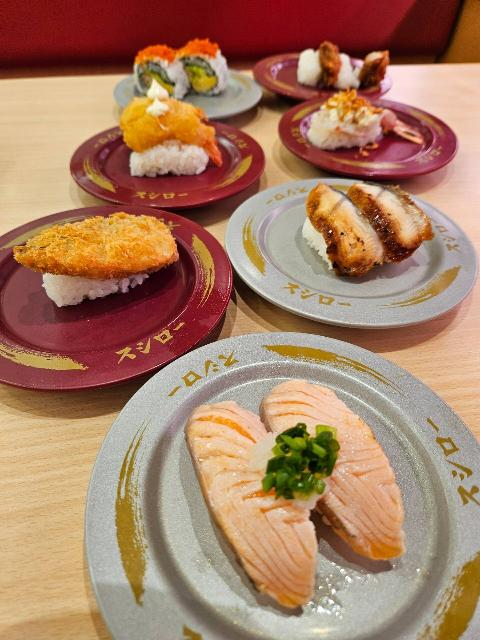janred: (13, 197, 238, 378), (270, 96, 473, 196), (43, 111, 253, 206), (226, 58, 389, 96)
janwhite: (114, 343, 480, 640), (226, 177, 477, 340), (124, 51, 277, 131)
